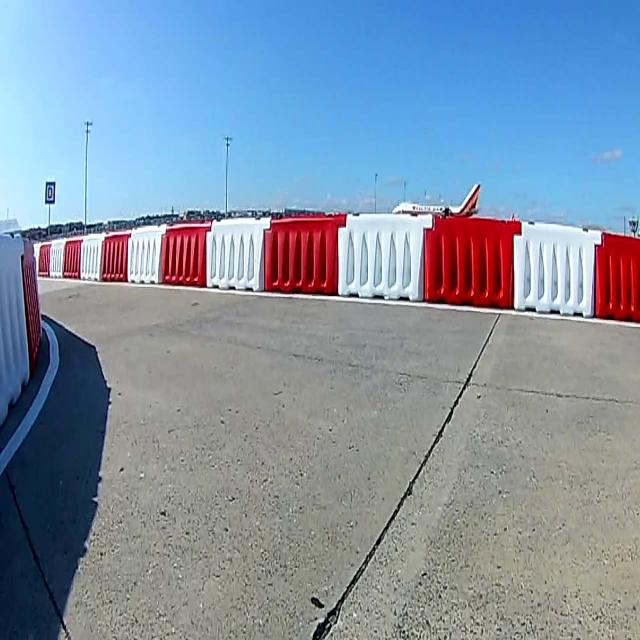durak: (45, 182, 55, 203)
